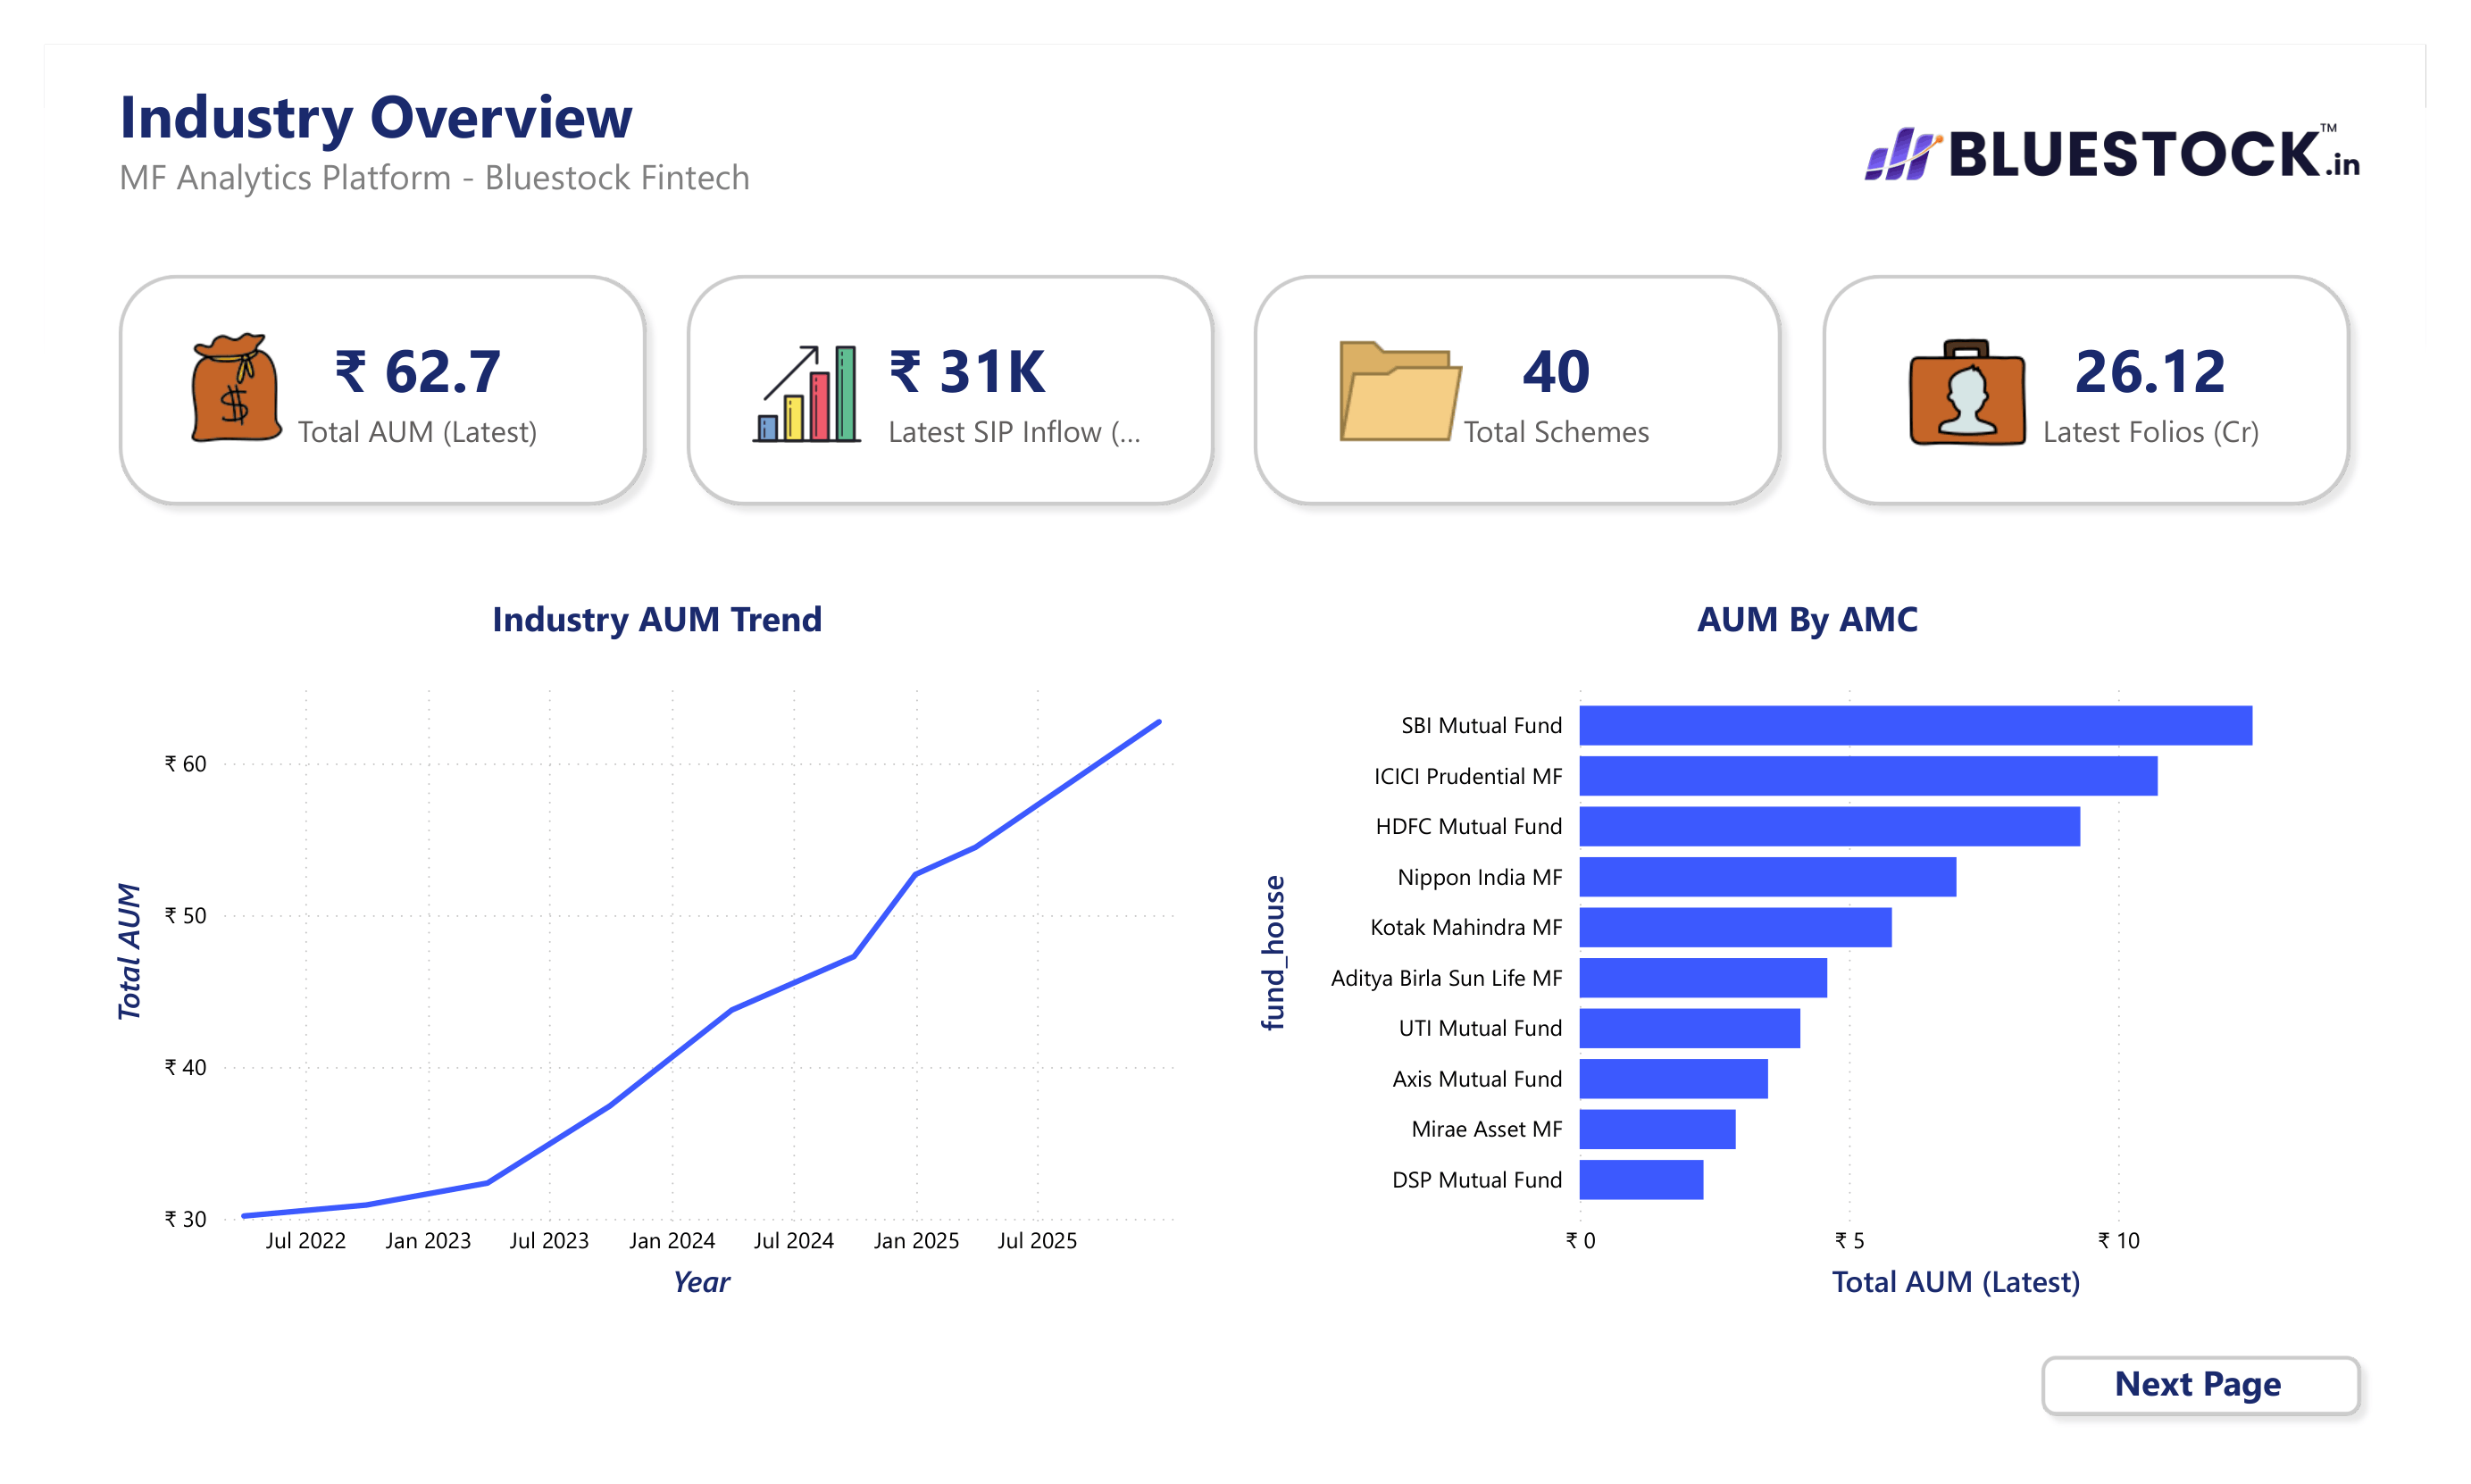

The dashboard page shown, as its layout file describes it:
{"tool":"powerbi","page":{"name":"Industry Overview","canvas":[1280,750],"ordinal":0},"visuals":[{"type":"shape","box":[947.7,116.4,300,140],"z":0},{"type":"shape","box":[31,116.4,300,140],"z":1000},{"type":"shape","box":[336.6,116.4,300,140],"z":2000},{"type":"shape","box":[642.1,116.4,300,140],"z":3000},{"type":"cardVisual","fields":{"Data":["fact_aum.Total AUM"]},"box":[100,130,200,110],"z":4000},{"type":"cardVisual","fields":{"Data":["fact_sip.Total SIP Inflows (Cr)"]},"box":[424.3,129.7,200,110],"z":5000},{"type":"cardVisual","fields":{"Data":["dim_fund.Total Schemes"]},"box":[713.3,130,200,110],"z":6000},{"type":"cardVisual","fields":{"Data":["06_industry_folio_count_cleaned.Latest Folios (Cr)"]},"box":[1032.7,129.7,200,110],"z":7000},{"type":"lineChart","title":"Industry AUM Trend","fields":{"Category":["dim_date.full_date.Variation.Date Hierarchy.Year"],"Y":["fact_aum.Total AUM (L Cr)"]},"box":[32,296,594,384],"z":8000},{"type":"barChart","title":"AUM By AMC","fields":{"Category":["fact_aum.fund_house"],"Y":["fact_aum.Total AUM (L Cr)"]},"box":[648,296,600,384],"z":9000},{"type":"image","box":[978.3,5,268.3,105],"z":10000},{"type":"textbox","box":[34,9.7,390,108],"z":11000},{"type":"image","box":[69.3,148.1,68.3,75],"z":12000},{"type":"image","box":[371,148.1,76.7,78.3],"z":13000},{"type":"image","box":[996.7,146.7,73.3,80],"z":14000},{"type":"image","box":[695,146.7,66.7,78.3],"z":15000},{"type":"shape","box":[1066,698,188,48],"z":17000},{"type":"textbox","box":[1108,702,104,44],"z":18000},{"type":"actionButton","box":[1080,704,160,46],"z":19000}]}

Visuals, with their boxes on the page's 1280x750 design canvas (x1, y1, x2, y2). These are canvas units, not pixel positions in the 2471x1484 screenshot, which may show the page scaled, cropped or inside an application window:
shape: [left=948, top=116, right=1248, bottom=256]
shape: [left=31, top=116, right=331, bottom=256]
shape: [left=337, top=116, right=637, bottom=256]
shape: [left=642, top=116, right=942, bottom=256]
cardVisual - fact_aum.Total AUM: [left=100, top=130, right=300, bottom=240]
cardVisual - fact_sip.Total SIP Inflows (Cr): [left=424, top=130, right=624, bottom=240]
cardVisual - dim_fund.Total Schemes: [left=713, top=130, right=913, bottom=240]
cardVisual - 06_industry_folio_count_cleaned.Latest Folios (Cr): [left=1033, top=130, right=1233, bottom=240]
"Industry AUM Trend" lineChart: [left=32, top=296, right=626, bottom=680]
"AUM By AMC" barChart: [left=648, top=296, right=1248, bottom=680]
image: [left=978, top=5, right=1247, bottom=110]
textbox: [left=34, top=10, right=424, bottom=118]
image: [left=69, top=148, right=138, bottom=223]
image: [left=371, top=148, right=448, bottom=226]
image: [left=997, top=147, right=1070, bottom=227]
image: [left=695, top=147, right=762, bottom=225]
shape: [left=1066, top=698, right=1254, bottom=746]
textbox: [left=1108, top=702, right=1212, bottom=746]
actionButton: [left=1080, top=704, right=1240, bottom=750]
